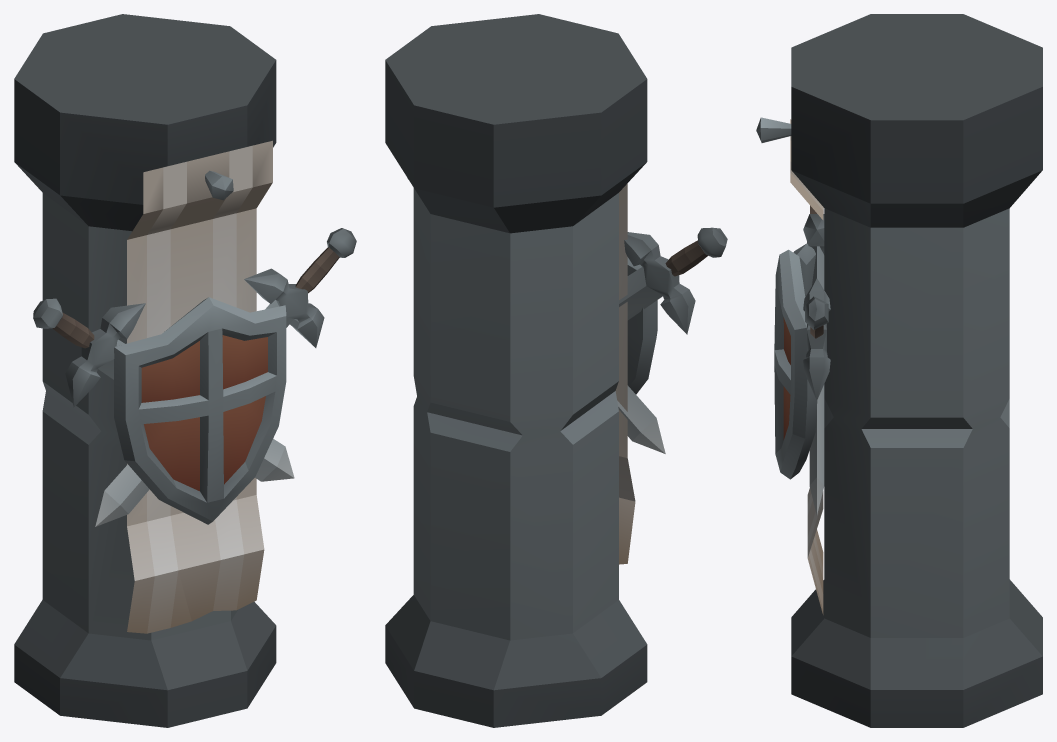
Rendered from fw_pillar_carved.glb.
3 renders of one model, left to right at view 1: azimuth 30°, elevation 25°; view 2: azimuth 150°, elevation 25°; view 3: azimuth 270°, elevation 25°, orthographic.
Parts seen in each view (by area): view 1: body; view 2: body; view 3: body.
Part boxes in pixels (<box>): body: <box>14,14,356,727</box>; body: <box>385,14,727,727</box>; body: <box>756,14,1042,727</box>.
Size of the model in its own units: 1.45 by 2.6 by 1.11.
